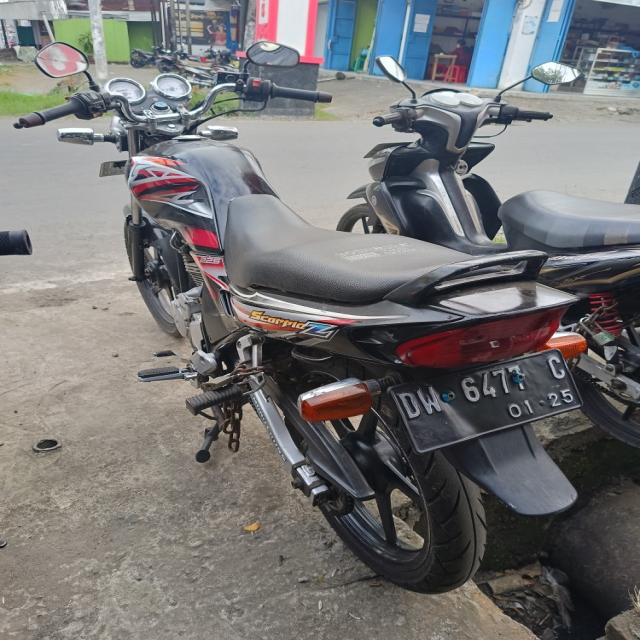plates: (392, 341, 584, 462)
